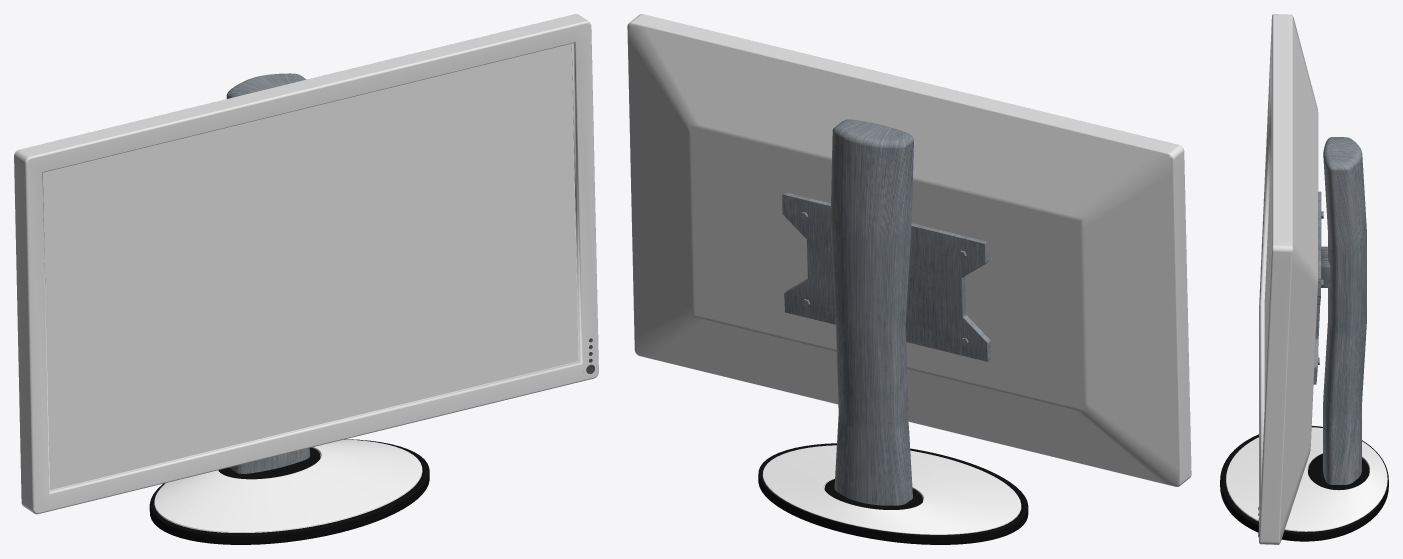
File: Monitor.fbx
3 renders of one model, left to right at view 1: azimuth 30°, elevation 25°; view 2: azimuth 150°, elevation 25°; view 3: azimuth 270°, elevation 25°, orthographic. The views are drawn at different scales.
Parts seen in each view (by area): view 1: Monitor; view 2: Monitor; view 3: Monitor.
Boxes of the visible parts, x1=… form: Monitor: x1=14, y1=14, x2=598, y2=544; Monitor: x1=627, y1=14, x2=1191, y2=544; Monitor: x1=1220, y1=14, x2=1388, y2=544.
Size of the model in its own units: 64 by 45.61 by 19.43.
Materials: 7 (1 with a texture image).
